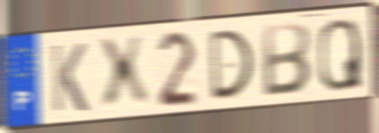2: (154, 28, 202, 111)
B: (260, 20, 313, 99)
D: (207, 26, 256, 103)
K: (48, 41, 90, 115)
Q: (316, 16, 365, 94)
X: (95, 32, 153, 115)
